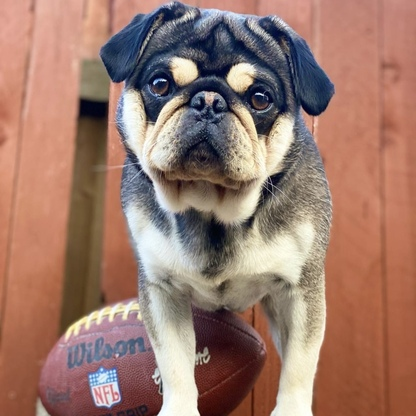Pug: (96, 1, 341, 416)
